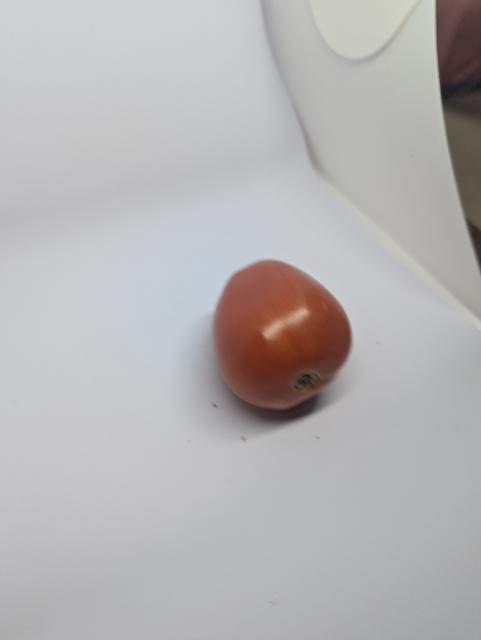red: (209, 257, 355, 415)
